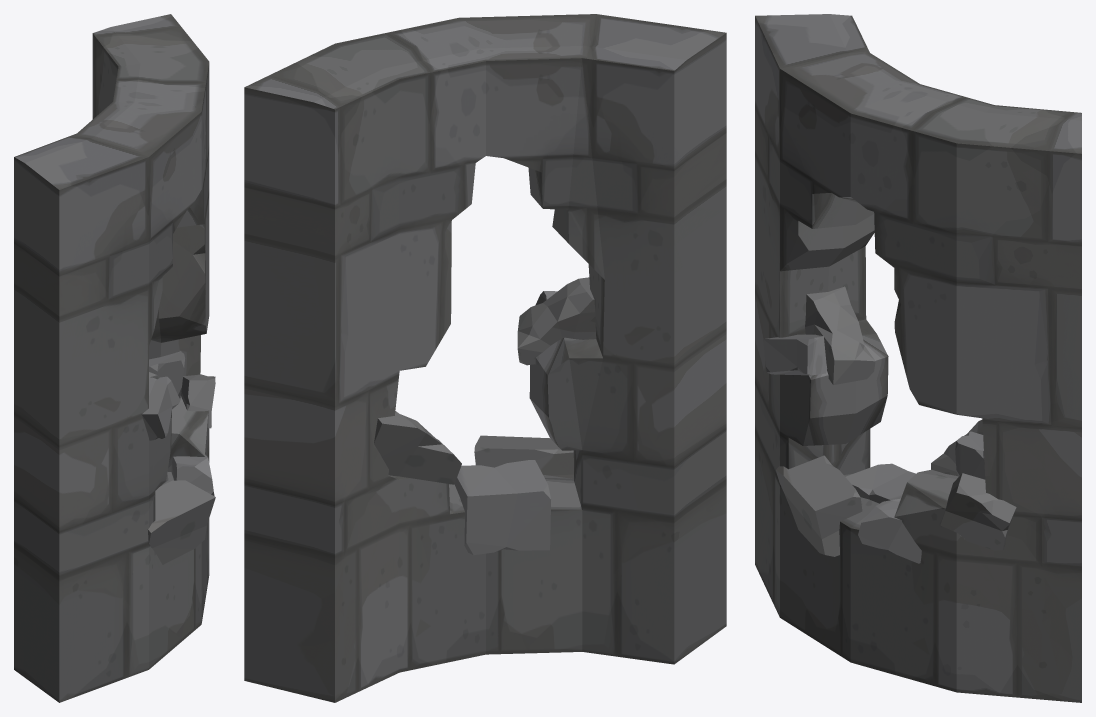
Rendered from SM_Bld_Wall_L_Curve_Damaged_02.fbx.
3 renders of one model, left to right at view 1: azimuth 30°, elevation 25°; view 2: azimuth 150°, elevation 25°; view 3: azimuth 270°, elevation 25°, orthographic. The views are drawn at different scales.
Visible parts, largest first — view 1: SM_Bld_Wall_L_Curve_Damaged_02; view 2: SM_Bld_Wall_L_Curve_Damaged_02; view 3: SM_Bld_Wall_L_Curve_Damaged_02.
Boxes of the visible parts, x1,y1,x2,y2 form: SM_Bld_Wall_L_Curve_Damaged_02: (14, 14, 215, 702); SM_Bld_Wall_L_Curve_Damaged_02: (244, 14, 726, 702); SM_Bld_Wall_L_Curve_Damaged_02: (755, 14, 1081, 702).
Size of the model in its own units: 324 by 602 by 324.
